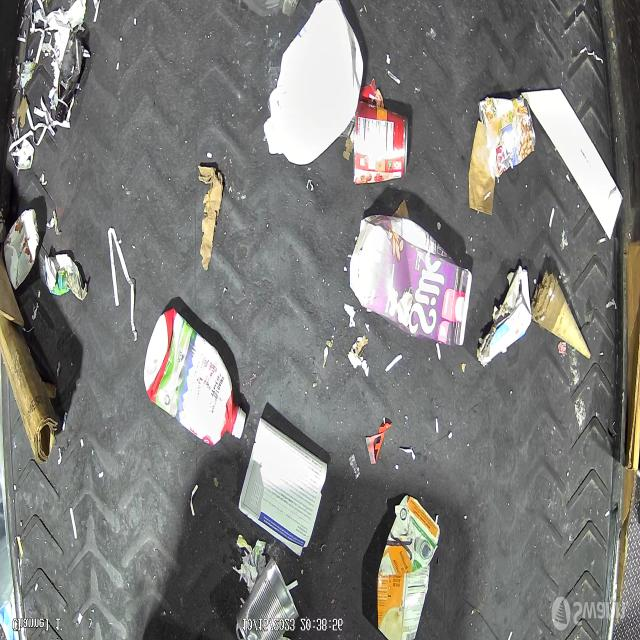can: (349, 90, 418, 203), (232, 564, 302, 640)
milk_jug: (262, 0, 372, 169)
